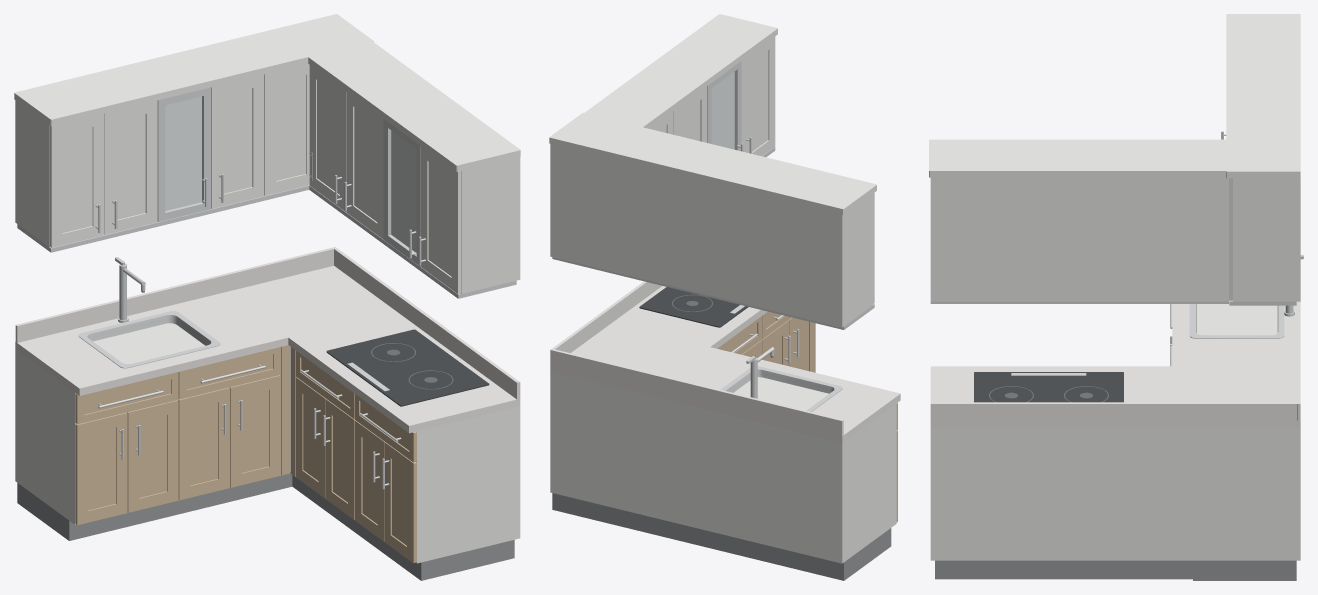
The picture shows the model from 3 angles, left to right: view 1: azimuth 30°, elevation 25°; view 2: azimuth 150°, elevation 25°; view 3: azimuth 270°, elevation 25°; orthographic projection. The views are drawn at different scales.
Visible parts, largest first — view 1: Tủ bếp chữ L Dài cạnh chính=1800; Dài cạnh phụ=1800; Sâu tủ ; view 2: Tủ bếp chữ L Dài cạnh chính=1800; Dài cạnh phụ=1800; Sâu tủ ; view 3: Tủ bếp chữ L Dài cạnh chính=1800; Dài cạnh phụ=1800; Sâu tủ .
Part boxes in pixels (x1=…): Tủ bếp chữ L Dài cạnh chính=1800; Dài cạnh phụ=1800; Sâu tủ : x1=14, y1=14, x2=520, y2=580; Tủ bếp chữ L Dài cạnh chính=1800; Dài cạnh phụ=1800; Sâu tủ : x1=549, y1=14, x2=900, y2=580; Tủ bếp chữ L Dài cạnh chính=1800; Dài cạnh phụ=1800; Sâu tủ : x1=929, y1=14, x2=1303, y2=580.
Bounding box in the file's own units: 1.82 × 2.2 × 1.82.
